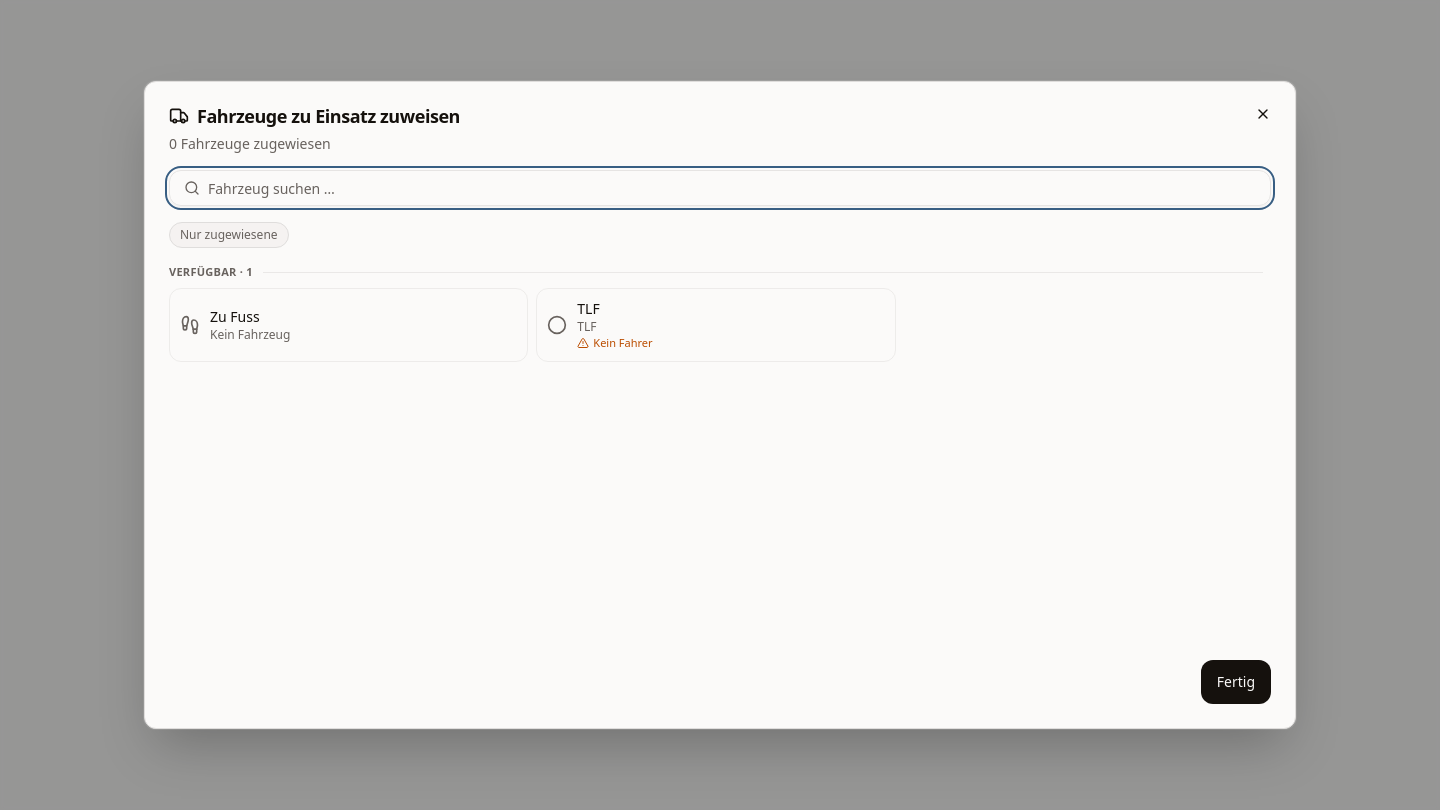
Test: (a) a filter emptied the list › hides the «Zu Fuss» pseudo-row and «Verfügbar · 0» while filtered empty
Expected: the text "Zu Fuss" is shown, [210,307,260,326]
Click the button "Nur zugewiesene".
click(229, 235)  # box [169,222,289,248]
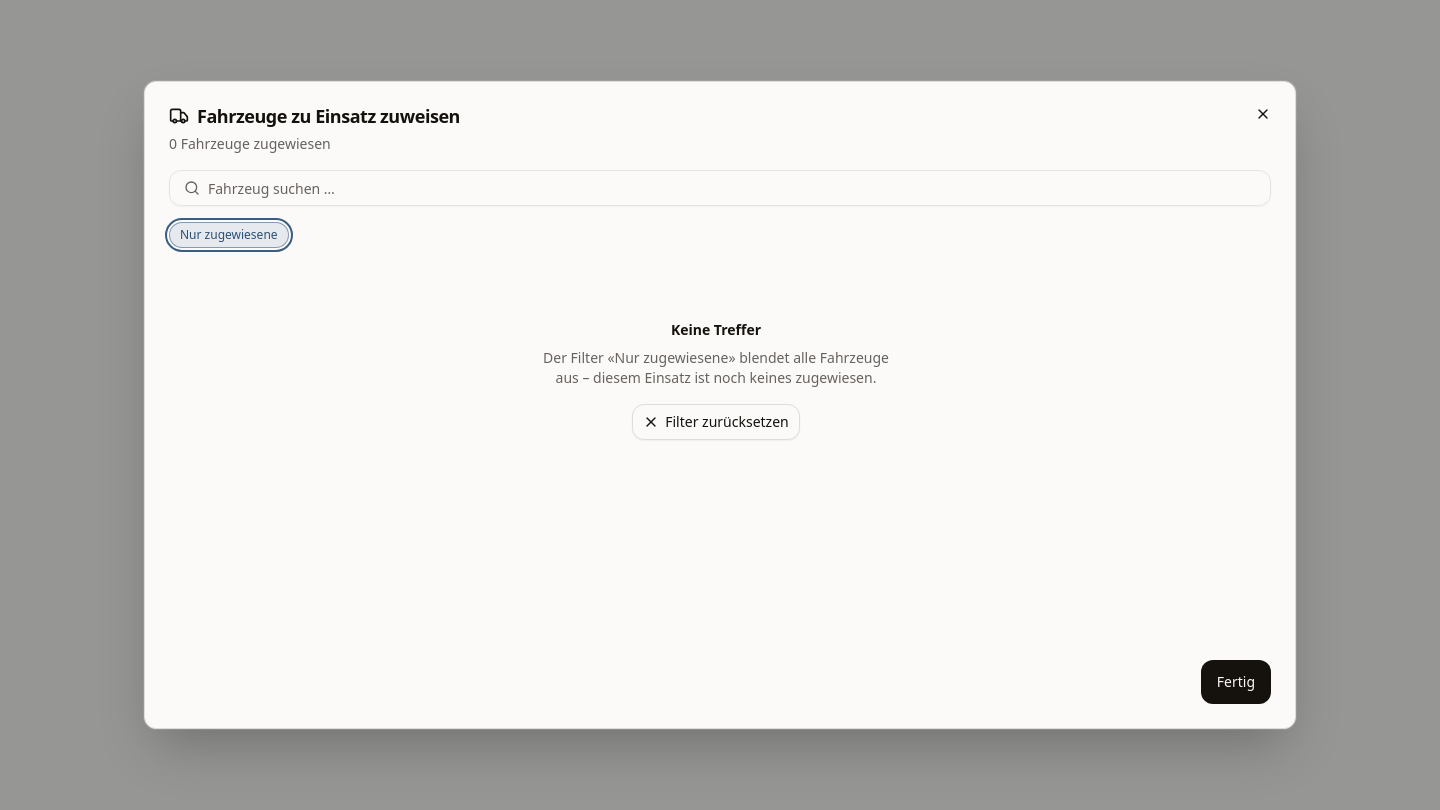
Result: the button "Zu Fuss" is gone
